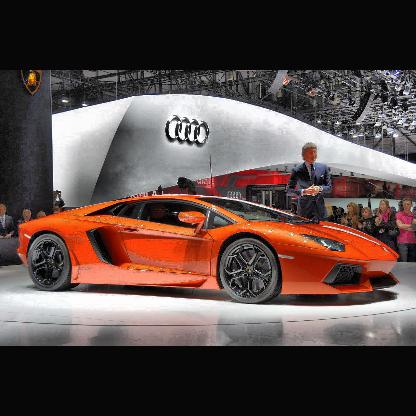Lamborghini Aventador Coupe 2012: (18, 196, 402, 306)
